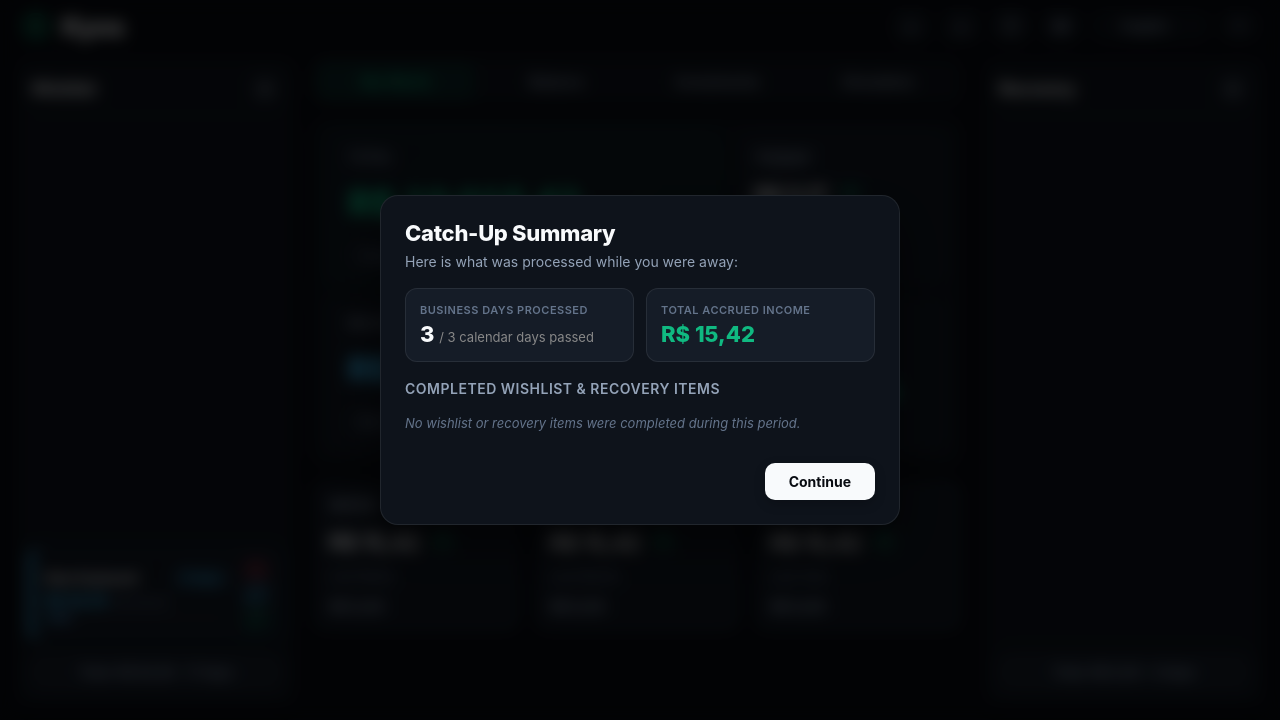
Scenario: auto-update processes missed business days and presents the Catch-Up Summary modal
This screenshot has width=1280, height=720.
Expected: the dialog is shown, [380,195,900,525]
Expected: the heading "Catch-Up Summary" is shown, [405,220,615,246]
Dismiss modal
Click the button "Continue".
click(820, 481)  # box [765,463,875,500]
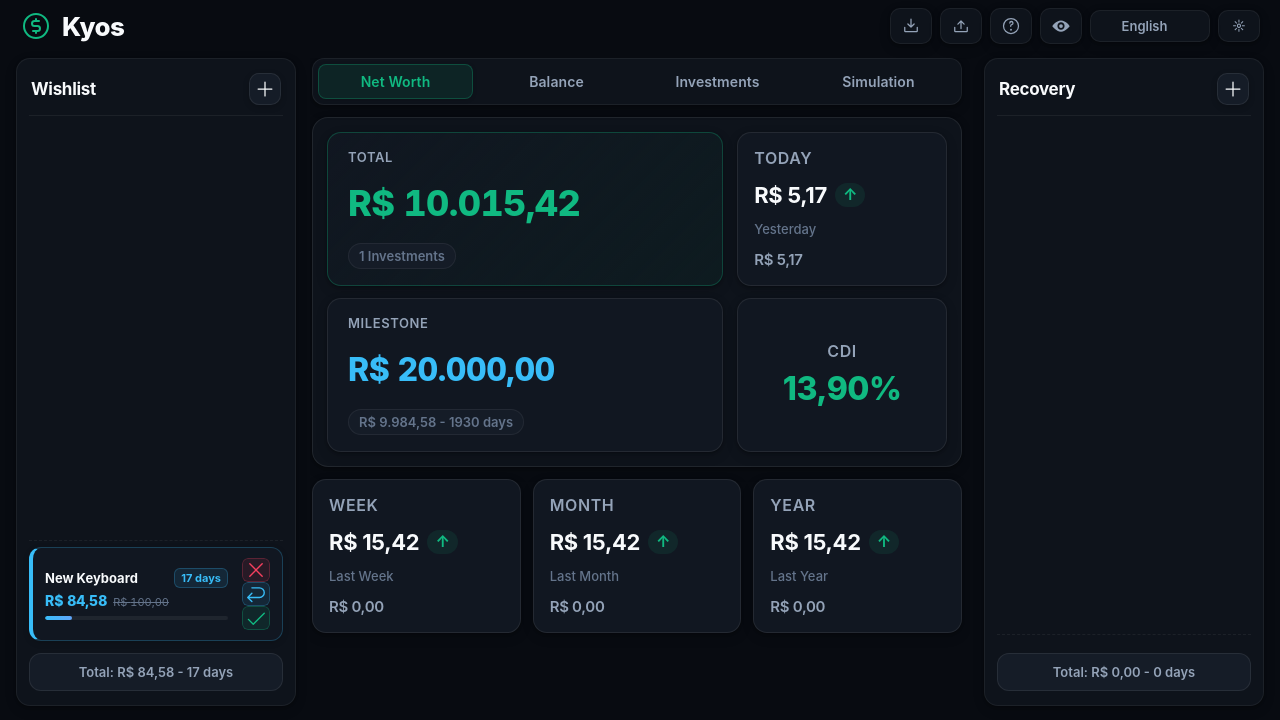
Expected: the dialog is gone
